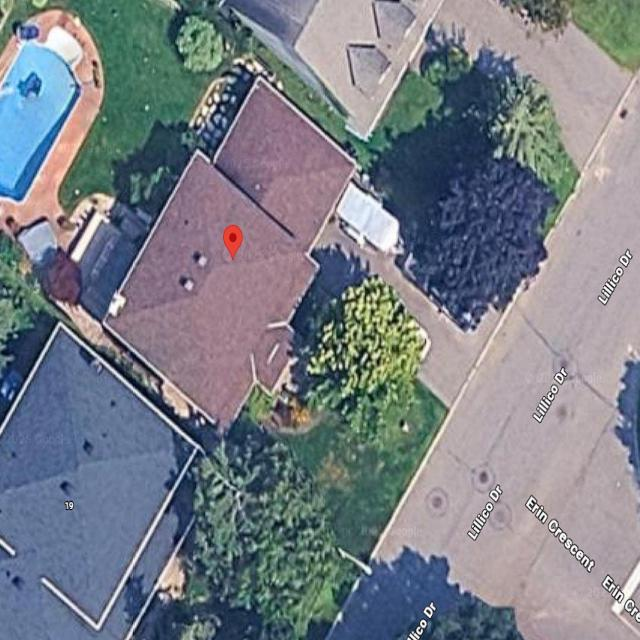Building: (103, 80, 360, 430)
boundaryof property: (0, 1, 512, 569)
obstacle: (340, 188, 401, 262)
walkways: (310, 172, 503, 409)
